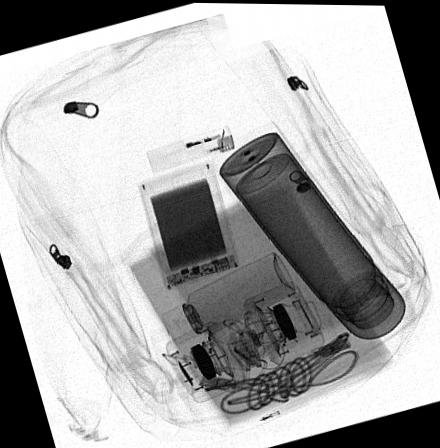Lighter: (136, 158, 241, 287), (144, 124, 234, 173)
Sprayer: (161, 249, 295, 344)
